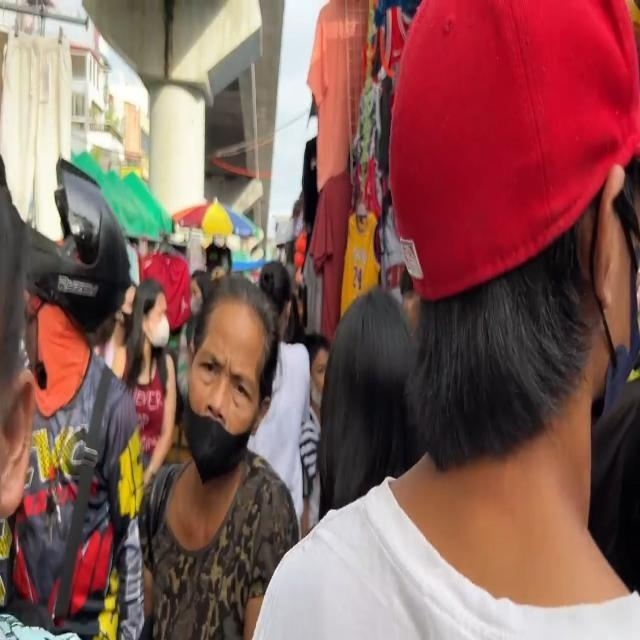hairnet: (188, 319, 255, 475)
